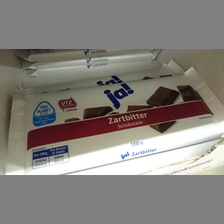chocolate: (9, 70, 223, 174)
